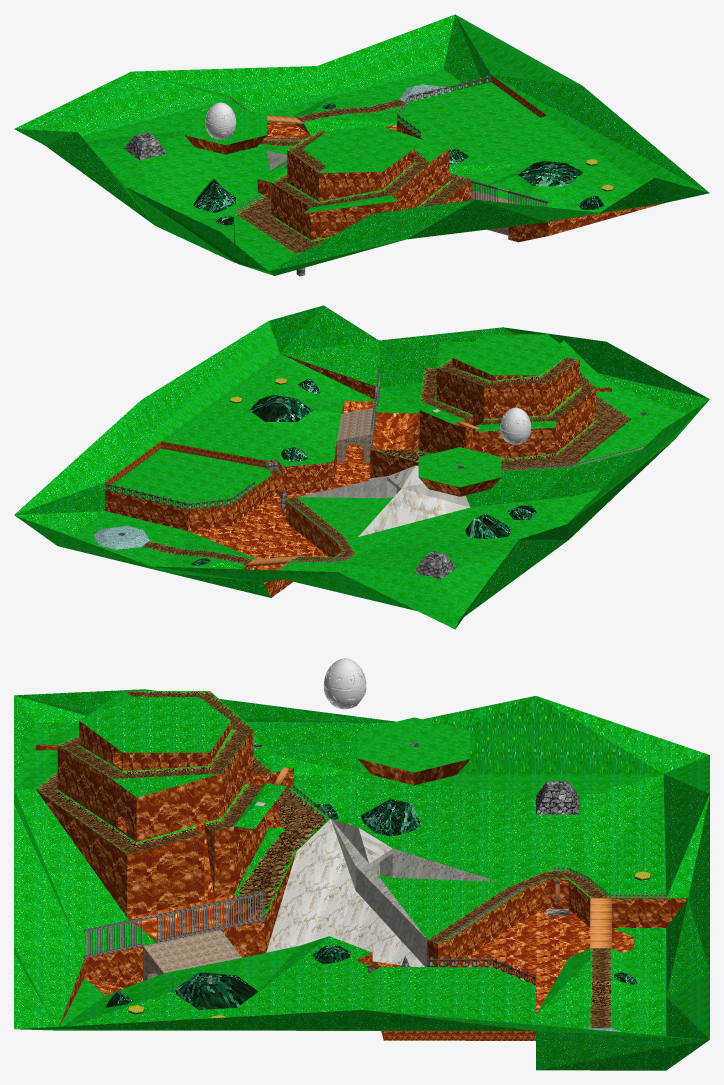
File: test-zone2 mario.glb
The picture shows the model from 3 angles, top to bottom: view 1: azimuth 30°, elevation 25°; view 2: azimuth 150°, elevation 25°; view 3: azimuth 270°, elevation 25°; orthographic projection. The views are drawn at different scales.
Parts seen in each view (by area): view 1: Shape_IndexedFaceSet.009, Shape_IndexedFaceSet.022, Shape_IndexedFaceSet.024, Shape_IndexedFaceSet.025, Shape_IndexedFaceSet.014, Shape_IndexedFaceSet.027, Shape_IndexedFaceSet.010, Shape_IndexedFaceSet.065, orbhudinib, Shape_IndexedFaceSet.017, Shape_IndexedFaceSet.064, Shape_IndexedFaceSet.012; view 2: Shape_IndexedFaceSet.009, Shape_IndexedFaceSet.022, Shape_IndexedFaceSet.024, Shape_IndexedFaceSet.016, Shape_IndexedFaceSet.025, Shape_IndexedFaceSet.014, Shape_IndexedFaceSet.010, Shape_IndexedFaceSet.027, Shape_IndexedFaceSet.065, Shape_IndexedFaceSet.015, Shape_IndexedFaceSet.012, orbhudinib (+2 smaller); view 3: Shape_IndexedFaceSet.009, Shape_IndexedFaceSet.022, Shape_IndexedFaceSet.016, Shape_IndexedFaceSet.024, Shape_IndexedFaceSet.025, Shape_IndexedFaceSet.014, Shape_IndexedFaceSet.010, Shape_IndexedFaceSet.064, Shape_IndexedFaceSet.015, Shape_IndexedFaceSet.065, orbhudinib, Shape_IndexedFaceSet.013 (+3 smaller).
Part boxes in pixels (<box>): Shape_IndexedFaceSet.009: <box>14,14,709,275</box>; Shape_IndexedFaceSet.022: <box>185,75,664,242</box>; Shape_IndexedFaceSet.024: <box>258,125,448,213</box>; Shape_IndexedFaceSet.025: <box>236,129,470,253</box>; Shape_IndexedFaceSet.014: <box>193,103,603,225</box>; Shape_IndexedFaceSet.027: <box>240,197,323,252</box>; Shape_IndexedFaceSet.010: <box>259,99,406,146</box>; Shape_IndexedFaceSet.065: <box>230,75,491,241</box>; orbhudinib: <box>205,102,236,139</box>; Shape_IndexedFaceSet.017: <box>124,132,453,160</box>; Shape_IndexedFaceSet.064: <box>471,182,546,206</box>; Shape_IndexedFaceSet.012: <box>400,84,452,103</box>; Shape_IndexedFaceSet.009: <box>14,305,709,629</box>; Shape_IndexedFaceSet.022: <box>105,334,611,597</box>; Shape_IndexedFaceSet.024: <box>408,334,611,454</box>; Shape_IndexedFaceSet.016: <box>298,409,470,536</box>; Shape_IndexedFaceSet.025: <box>372,355,631,469</box>; Shape_IndexedFaceSet.014: <box>191,379,536,565</box>; Shape_IndexedFaceSet.010: <box>142,469,356,564</box>; Shape_IndexedFaceSet.027: <box>501,399,626,470</box>; Shape_IndexedFaceSet.065: <box>105,445,645,570</box>; Shape_IndexedFaceSet.015: <box>337,408,375,463</box>; Shape_IndexedFaceSet.012: <box>93,526,149,549</box>; orbhudinib: <box>500,407,531,444</box>; Shape_IndexedFaceSet.009: <box>14,689,709,1070</box>; Shape_IndexedFaceSet.022: <box>35,721,687,1040</box>; Shape_IndexedFaceSet.016: <box>255,801,496,966</box>; Shape_IndexedFaceSet.024: <box>37,691,293,893</box>; Shape_IndexedFaceSet.025: <box>36,691,328,919</box>; Shape_IndexedFaceSet.014: <box>106,799,637,1009</box>; Shape_IndexedFaceSet.010: <box>366,870,611,1027</box>; Shape_IndexedFaceSet.064: <box>85,895,263,955</box>; Shape_IndexedFaceSet.015: <box>143,929,241,980</box>; Shape_IndexedFaceSet.065: <box>290,786,666,984</box>; orbhudinib: <box>323,658,366,709</box>; Shape_IndexedFaceSet.013: <box>83,743,568,981</box>.
Bounding box in the file's own units: 328 × 103 × 328.
Materials: 23 (21 with a texture image).
